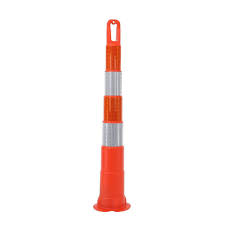cones: (91, 17, 137, 216)
